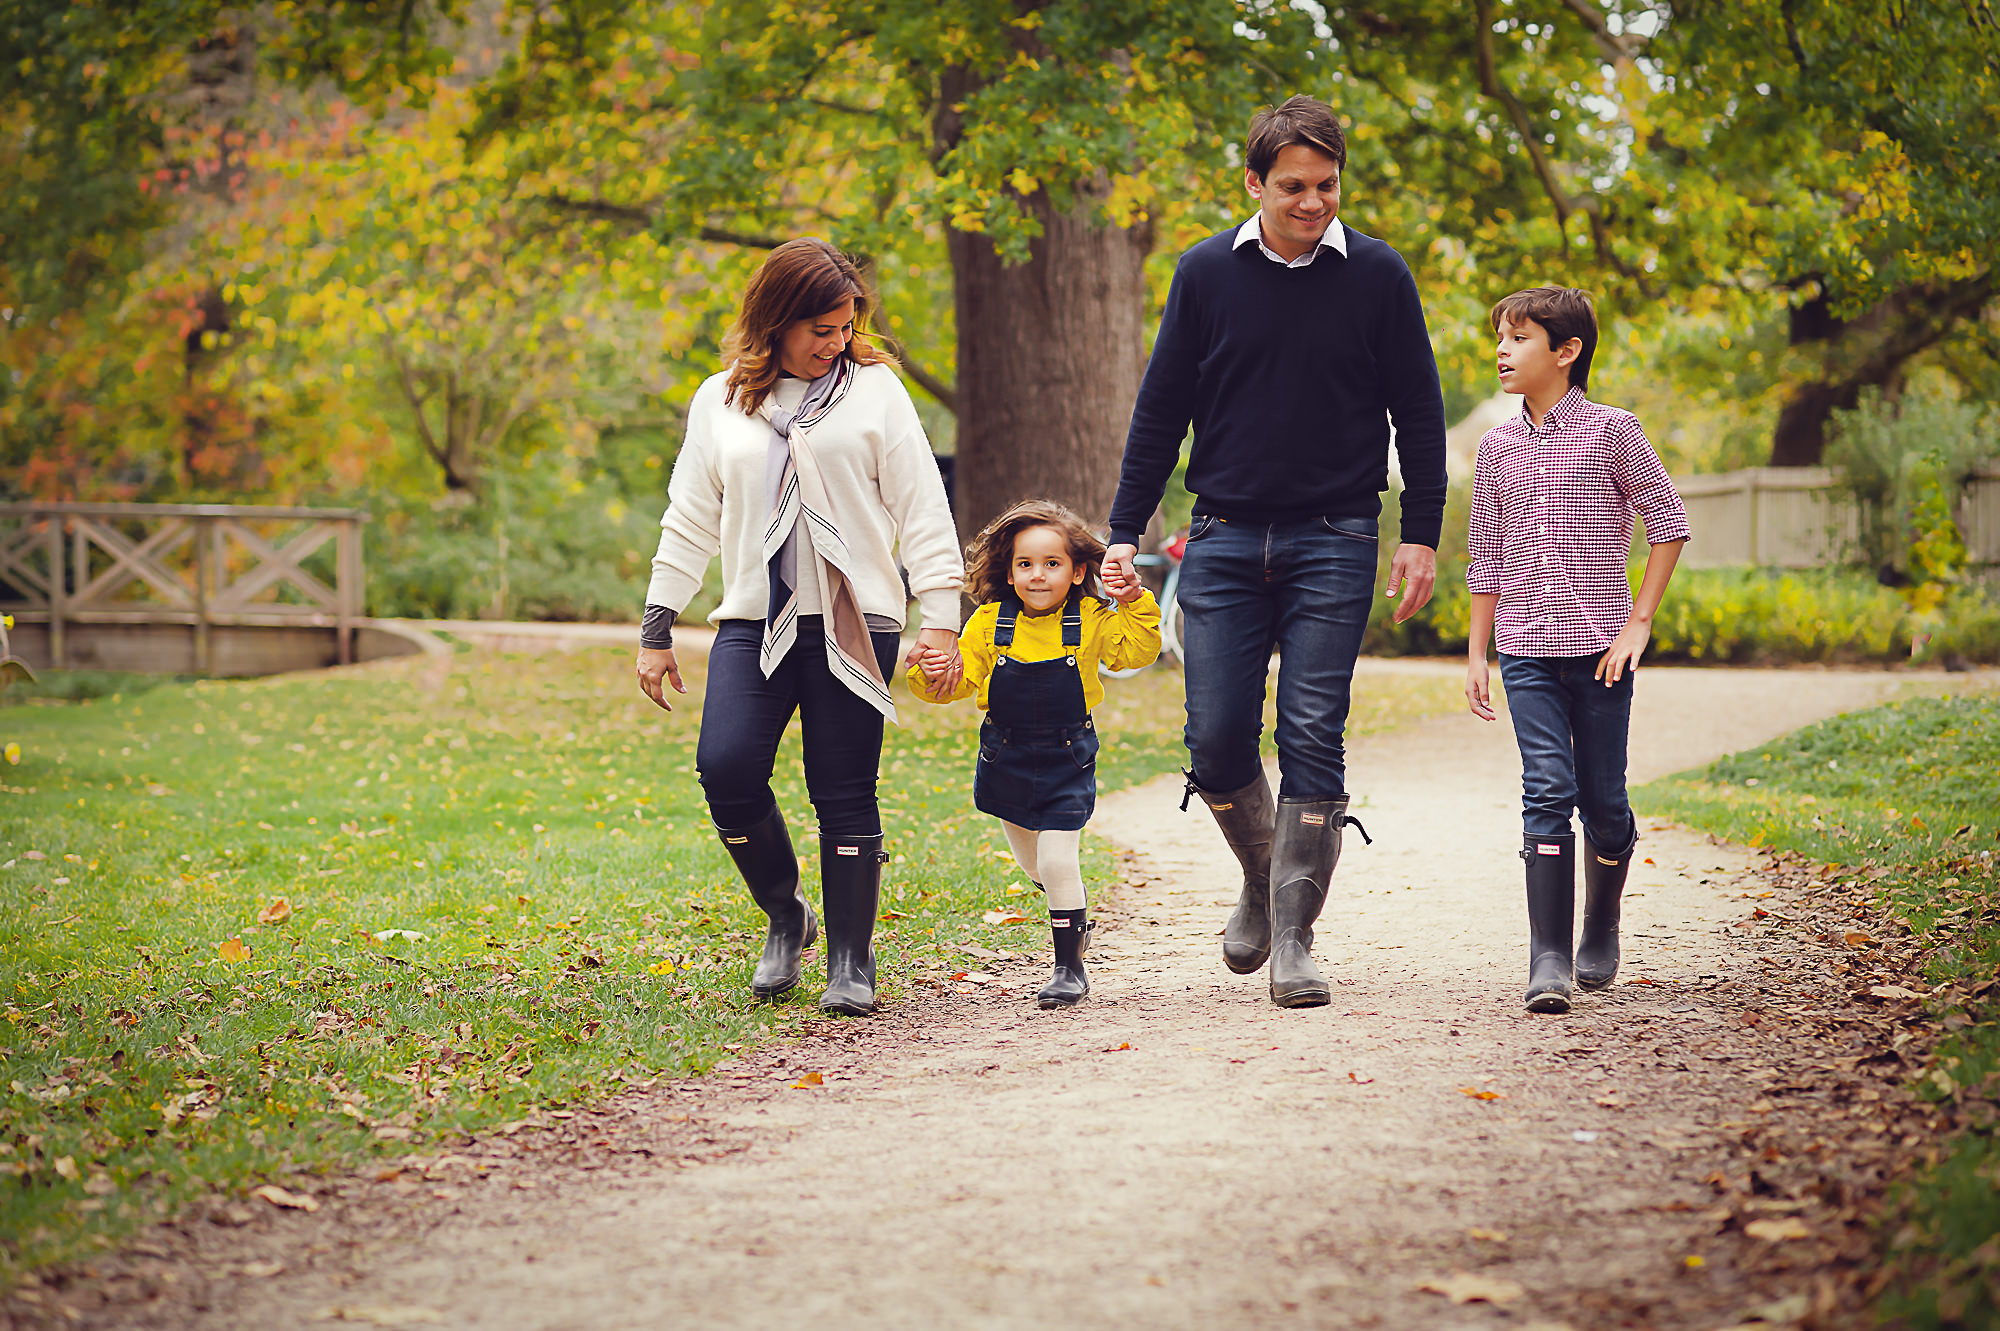Person: (1150, 115, 1450, 1005), (620, 245, 950, 1055), (1460, 315, 1690, 985), (950, 525, 1130, 975)
